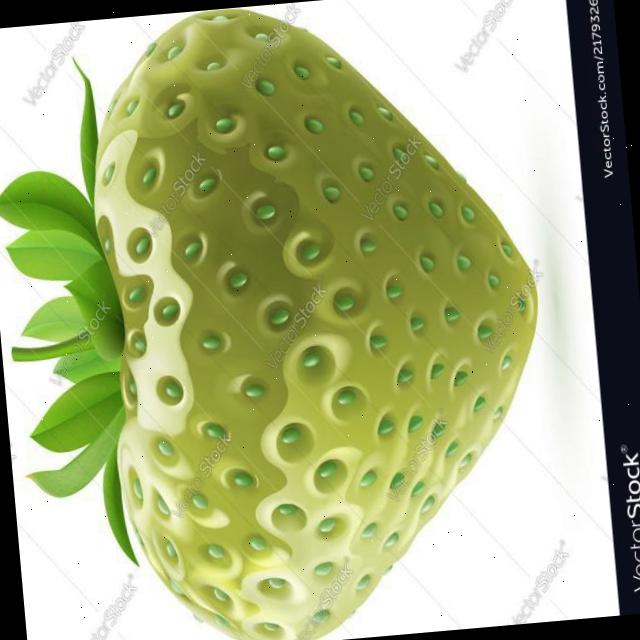strawberry: (78, 0, 563, 640)
